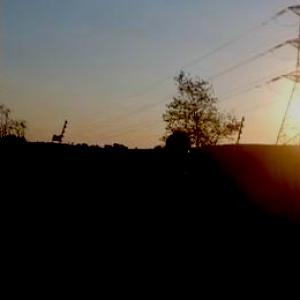follow: (132, 127, 212, 299)
